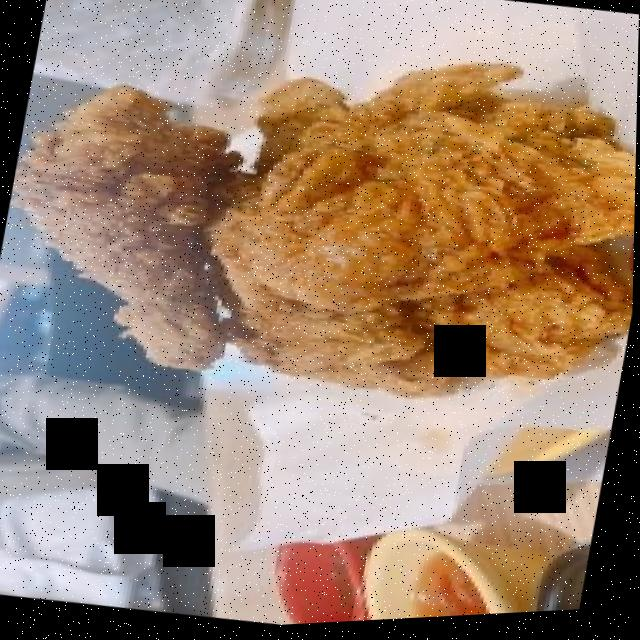Frango: (0, 0, 640, 440)
